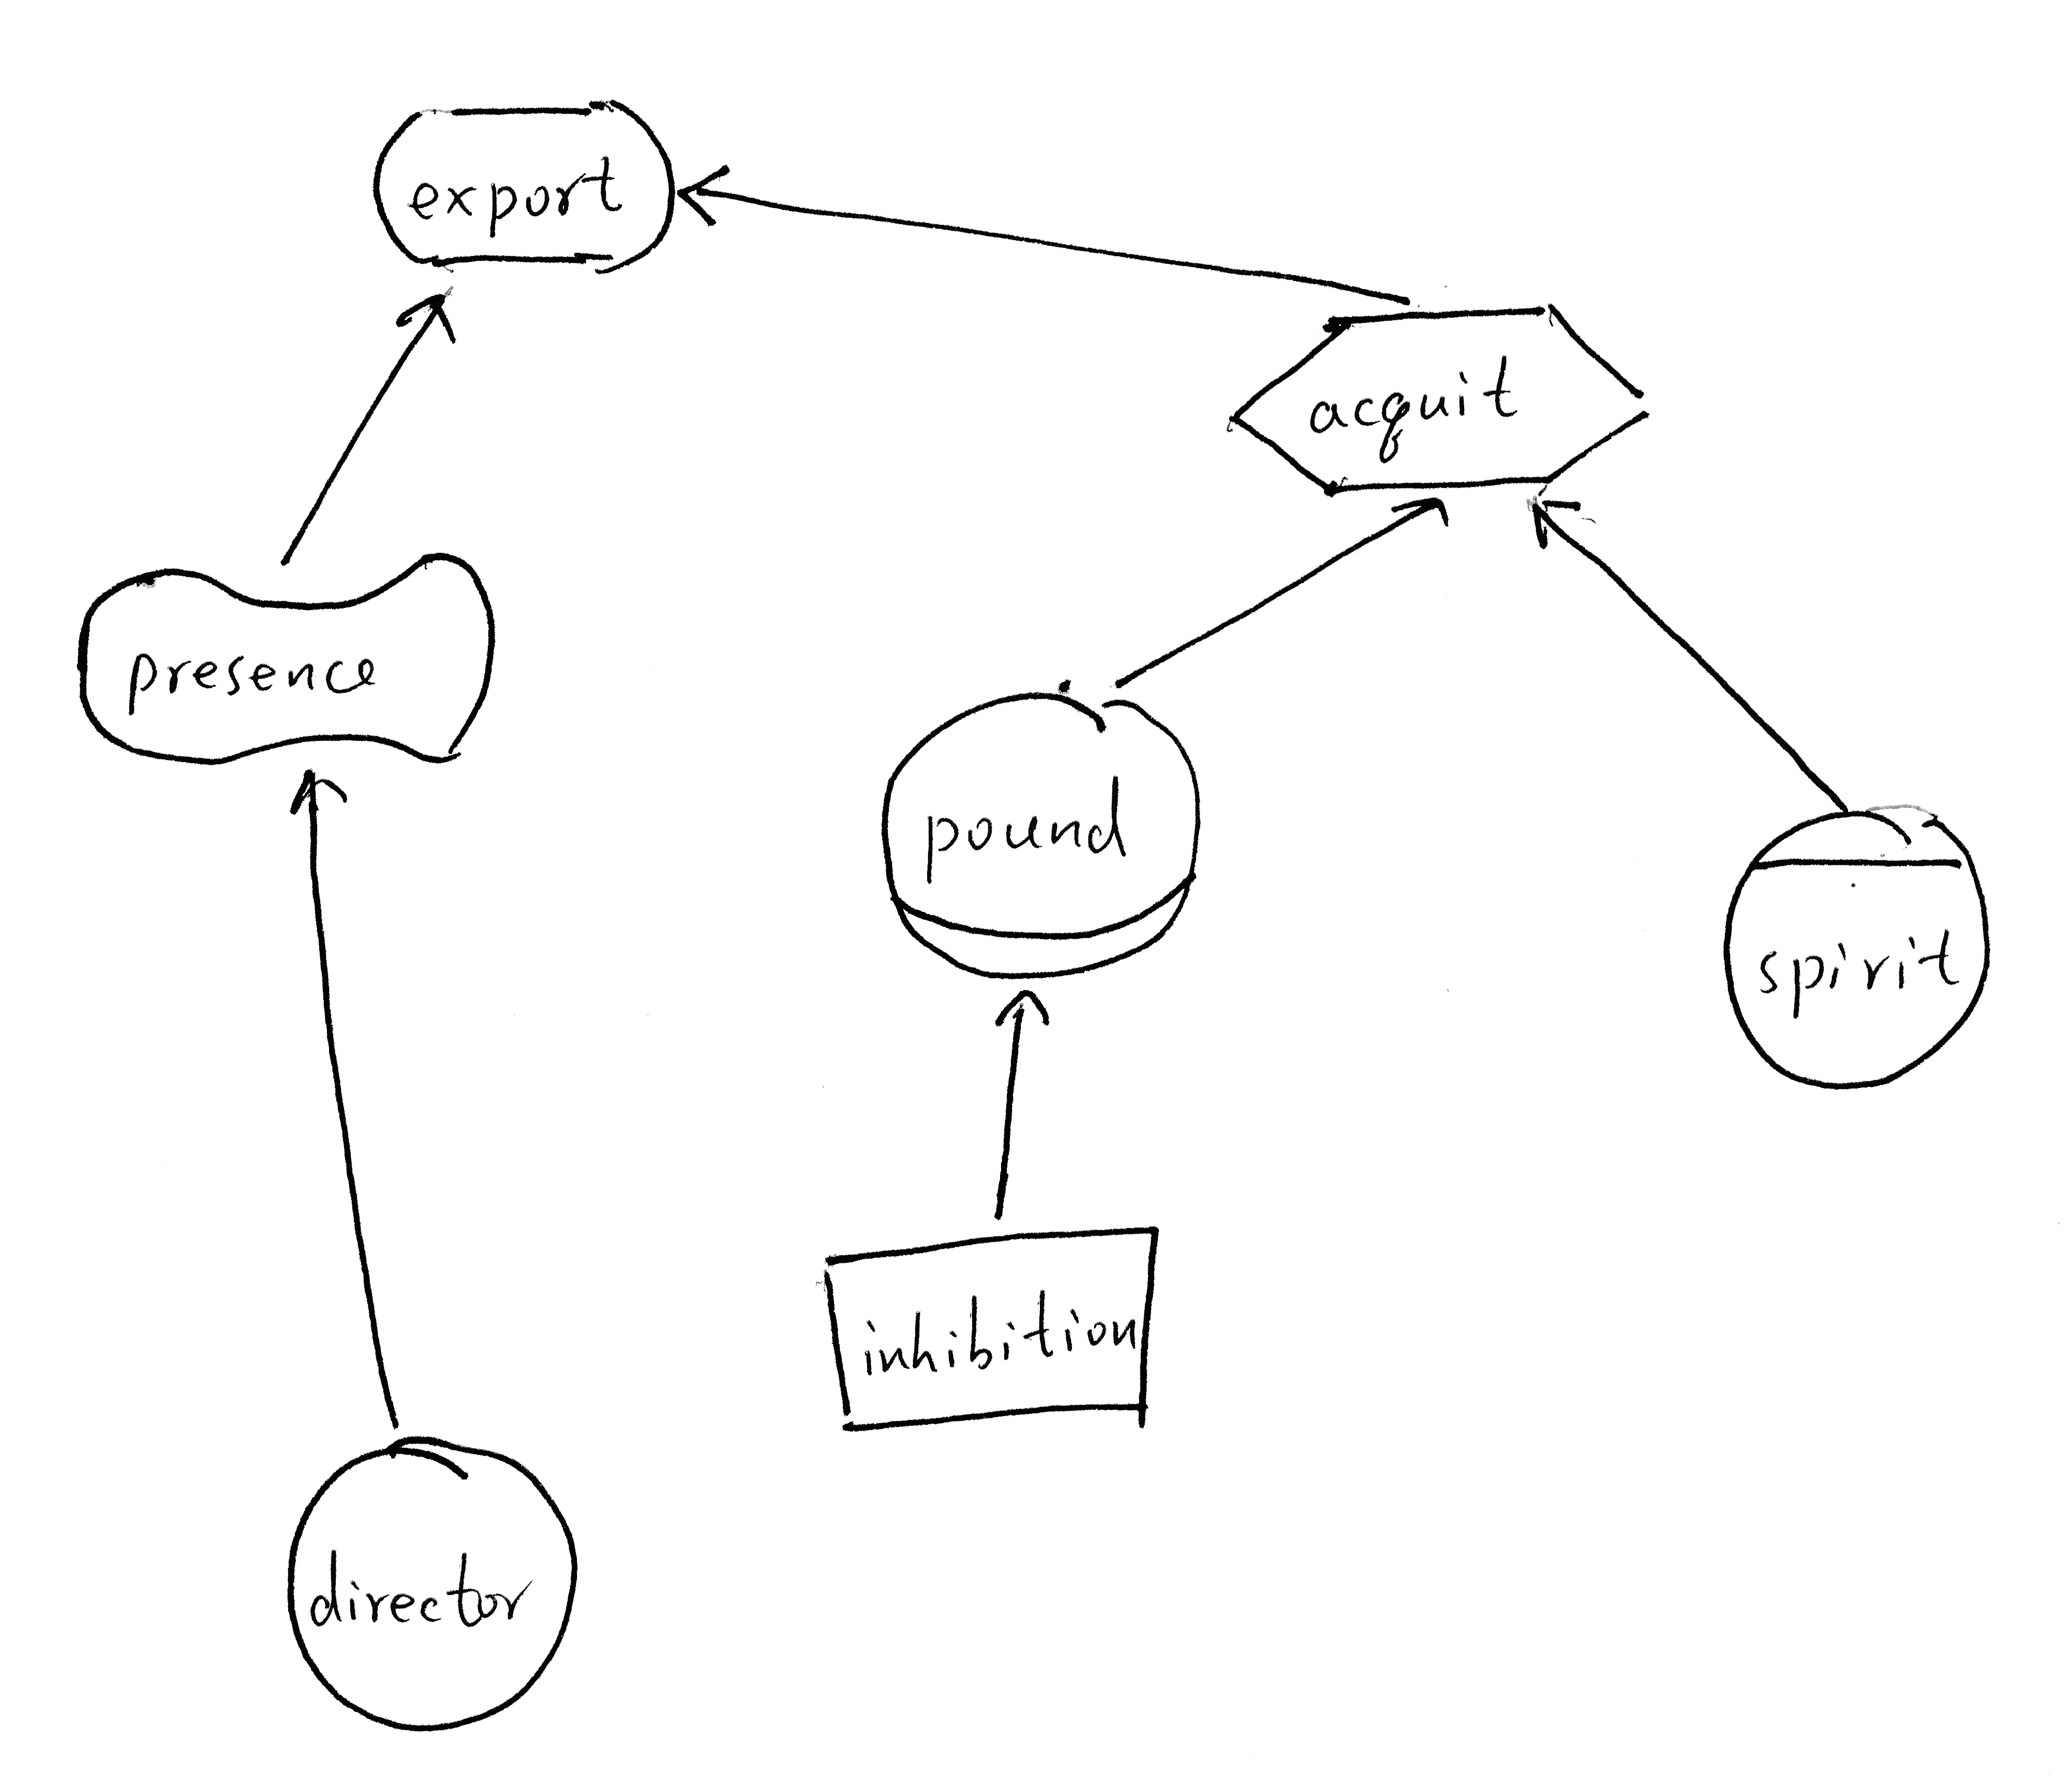actor: (261, 1422, 595, 1744)
agent: (1702, 787, 2007, 1097)
arrow: (660, 151, 745, 248), (384, 280, 479, 364), (268, 755, 357, 833), (1516, 481, 1598, 556), (980, 966, 1056, 1042), (1378, 475, 1461, 544)
goal: (364, 79, 694, 287)
quality: (55, 537, 509, 783)
resource: (792, 1208, 1176, 1445)
role: (868, 669, 1215, 995)
task: (1216, 289, 1674, 510)
